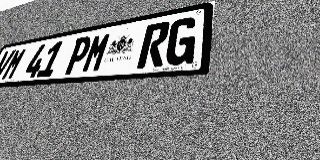1: (36, 40, 66, 77)
4: (22, 43, 51, 79)
G: (163, 16, 199, 66)
M: (80, 32, 113, 74), (0, 47, 28, 81)
P: (62, 35, 94, 75)
R: (136, 21, 171, 69)
V: (0, 50, 16, 82)
